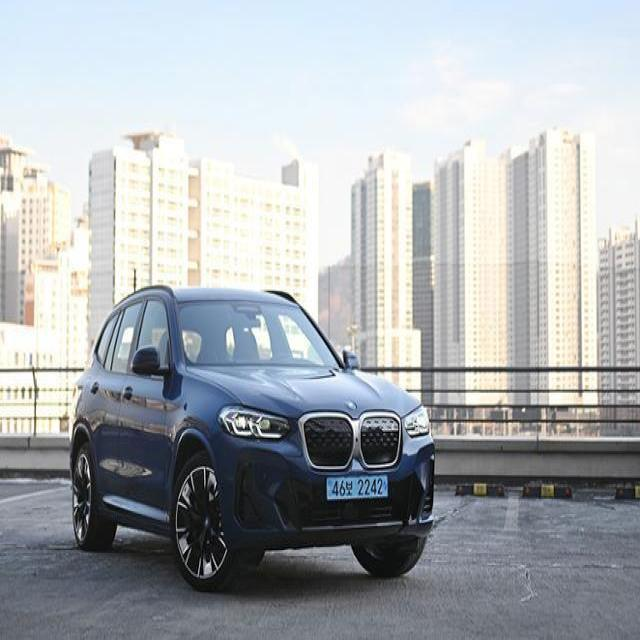EV_plate: (324, 475, 392, 501)
car: (63, 266, 444, 586)
